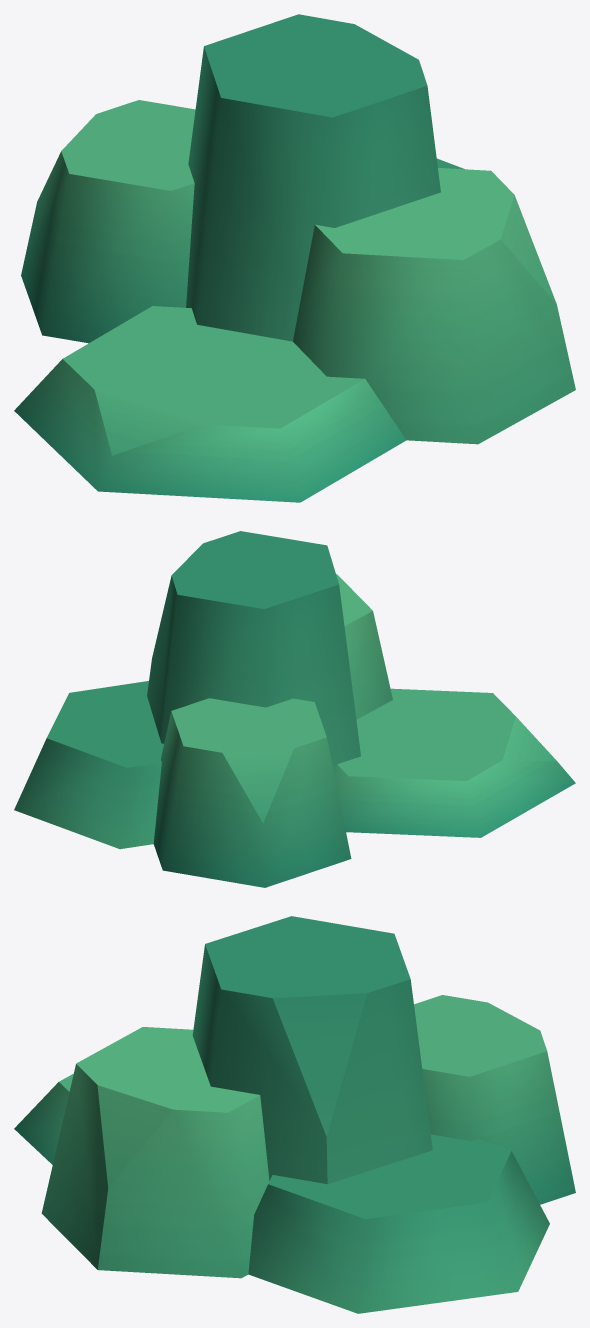
The model's file is kenney-tower-defense-detail-rocks-large.glb.
3 views of the same model, one above another, from view 1: azimuth 30°, elevation 25°; view 2: azimuth 150°, elevation 25°; view 3: azimuth 270°, elevation 25° (orthographic). The views are drawn at different scales.
Parts seen in each view (by area): view 1: detail-rocks-large; view 2: detail-rocks-large; view 3: detail-rocks-large.
Boxes of the visible parts, bbox=[...] form: detail-rocks-large: bbox=[14, 14, 575, 502]; detail-rocks-large: bbox=[14, 531, 575, 887]; detail-rocks-large: bbox=[14, 916, 575, 1313].
Bounding box in the file's own units: 0.8922 × 0.4145 × 0.8593.
Materials: 1 (1 with a texture image).
